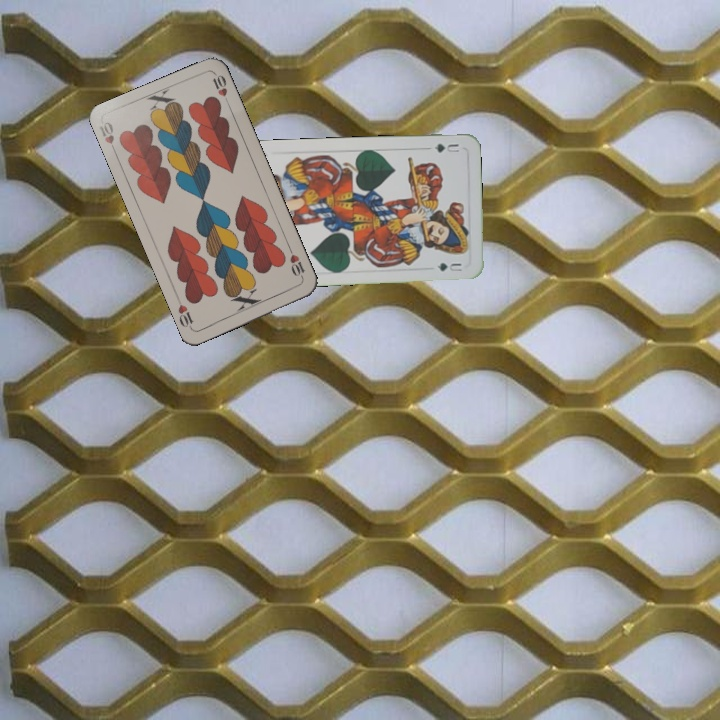GU: (430, 140, 462, 155)
H10: (95, 118, 119, 157), (285, 244, 308, 282)
